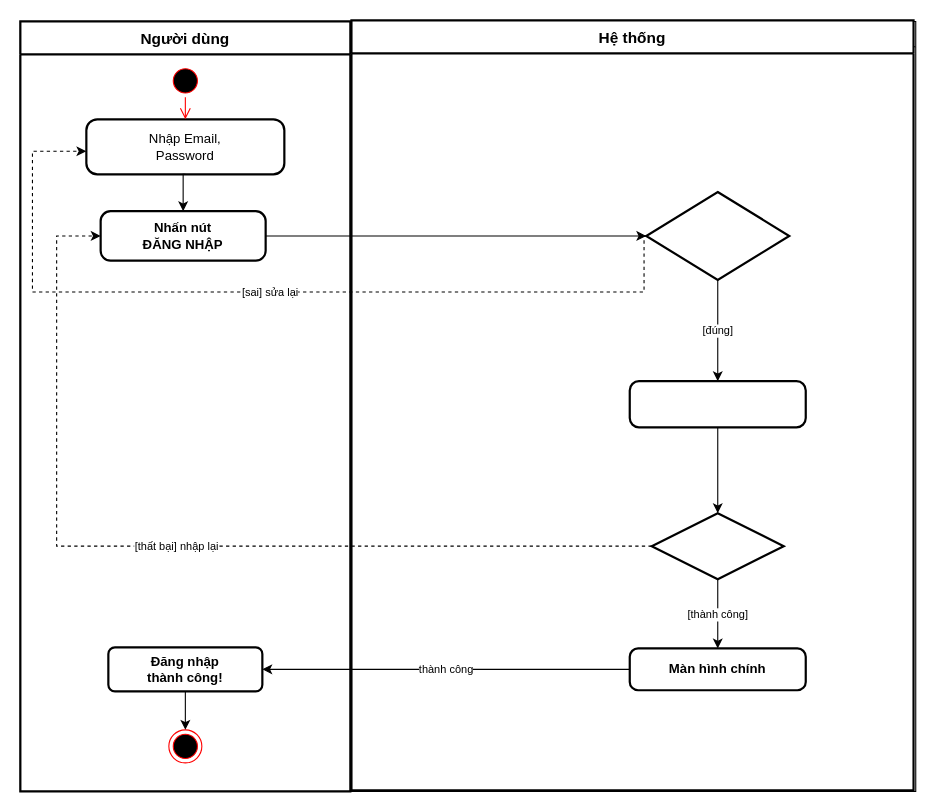
Some shapes in this 935 by 811 pixel diagram are drawn without their labels. The shapes that lost their labels are listed below. From the top down, each one's box as (x1, y1, x2, y2) in pixels, then its label:
(645, 190, 790, 280): Email & Password hợp lệ?
(628, 380, 806, 428): Firebase Auth đăng nhập
(650, 512, 784, 580): Đăng nhập thành công?
